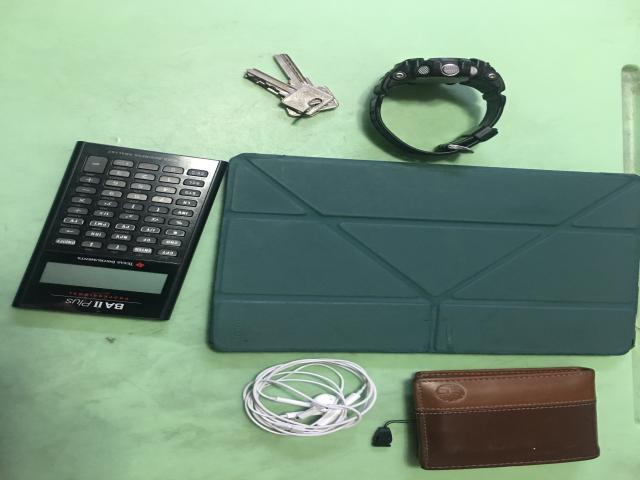Keys: (245, 53, 338, 116)
Wallet: (413, 368, 600, 470)
Watch: (370, 58, 505, 156)
wire: (243, 359, 377, 436)
